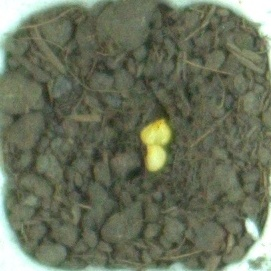chilli seed: (138, 117, 174, 147), (144, 143, 168, 173)
